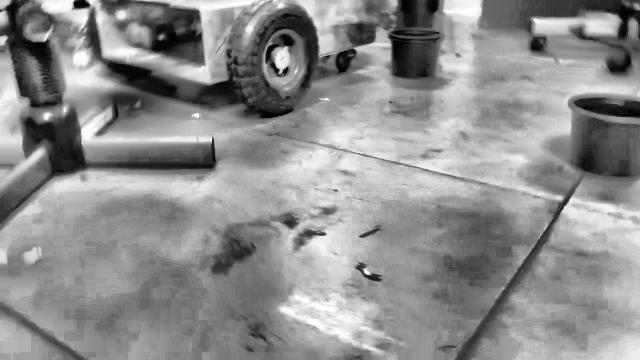pot: (569, 95, 639, 177), (389, 27, 443, 78)
